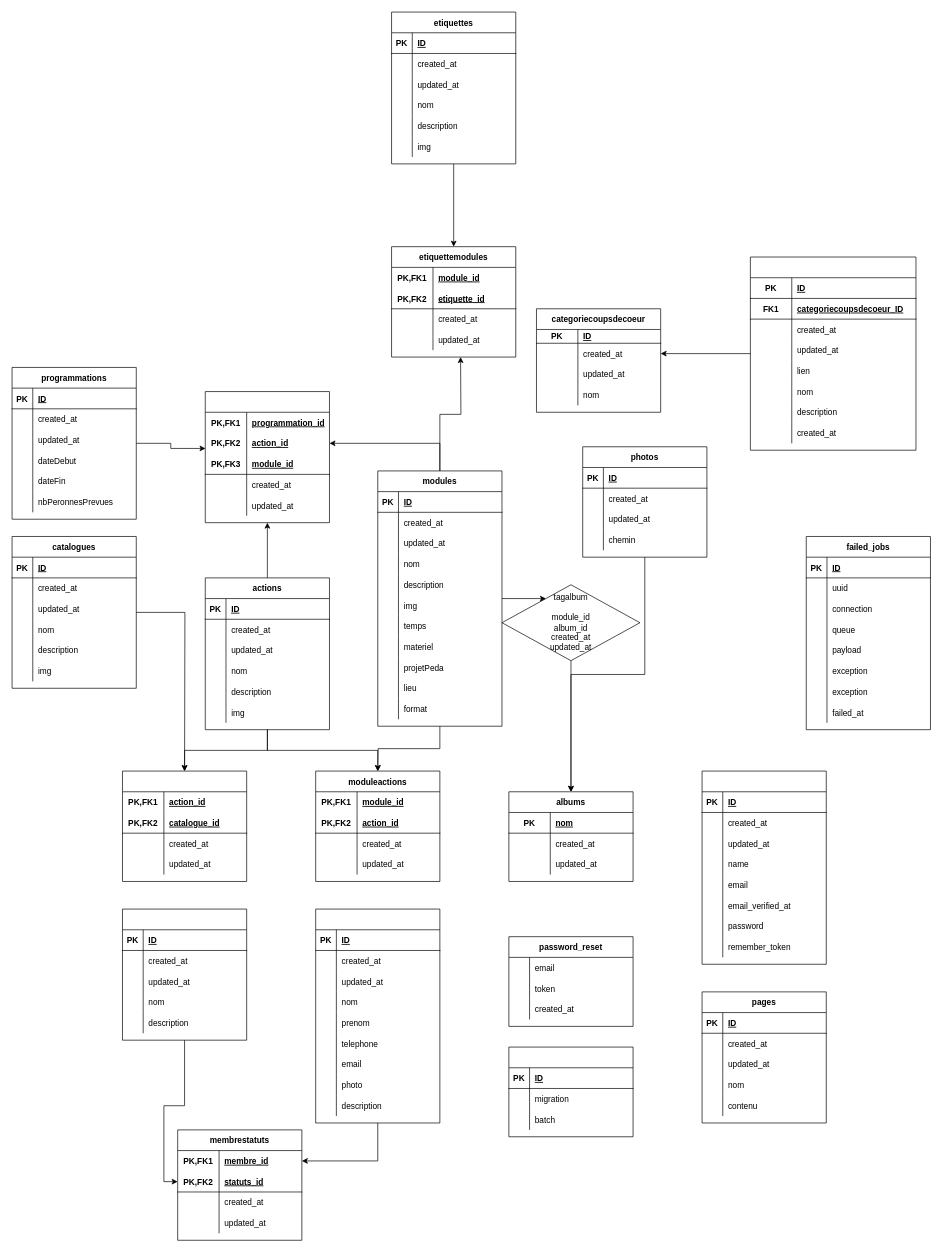
Image size: 943x1252. Some labels were removed from this diagram. Each missing label, with the box of its shape:
actioncatalogues: (122, 770, 247, 881)
contentprogs: (205, 391, 329, 523)
coupsdecoeurs: (750, 256, 916, 450)
membres: (315, 908, 440, 1123)
migrations: (508, 1046, 633, 1137)
statuts: (122, 908, 247, 1040)
users: (701, 770, 826, 964)
